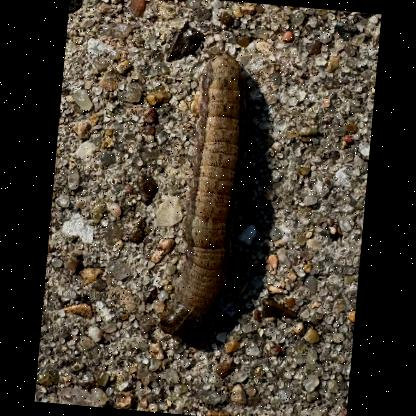Fall Armyworm Larvae: (155, 46, 257, 346)
